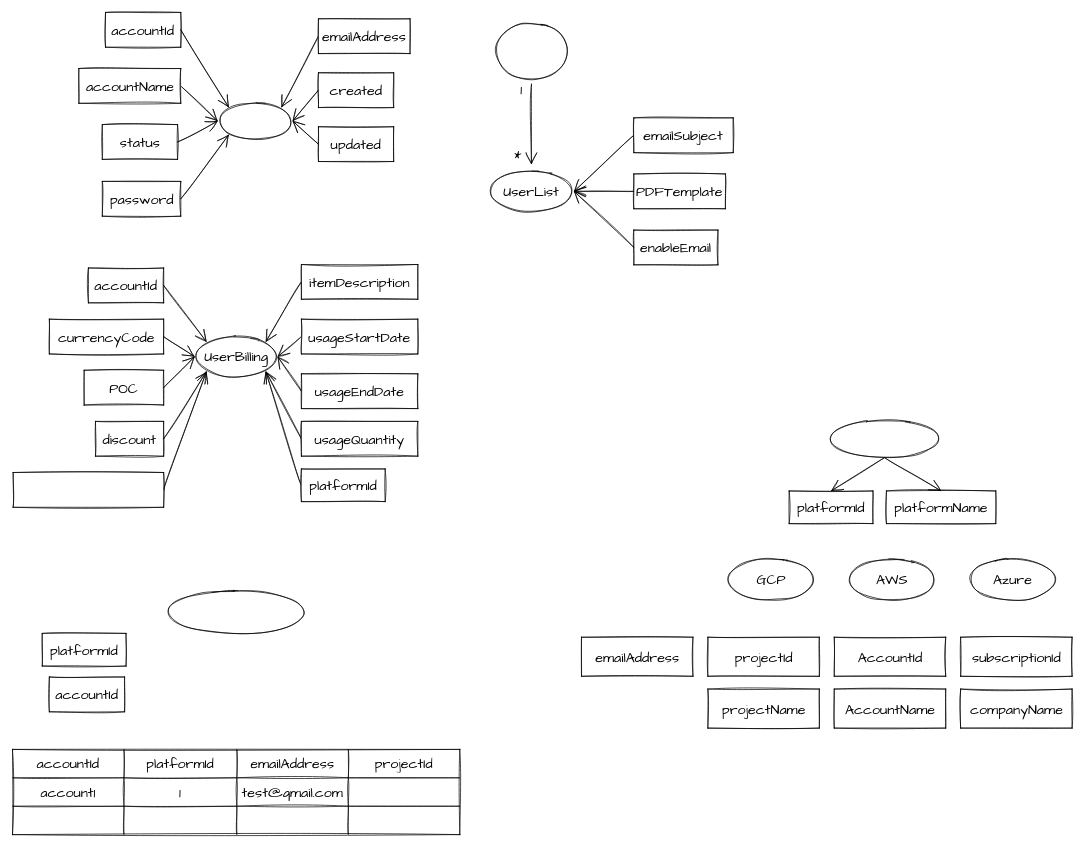
The diagram is 1085 pixels wide and 847 high, and some of its shapes have lost their labels. The shapes that lost their labels are listed below. From the top down, each one's centre as x and y in pixels, then its label:
[531,51]: Manager
[255,120]: User
[884,438]: platfrom
[88,489]: coverCurrencyCode
[236,611]: userPlatfromInfo
